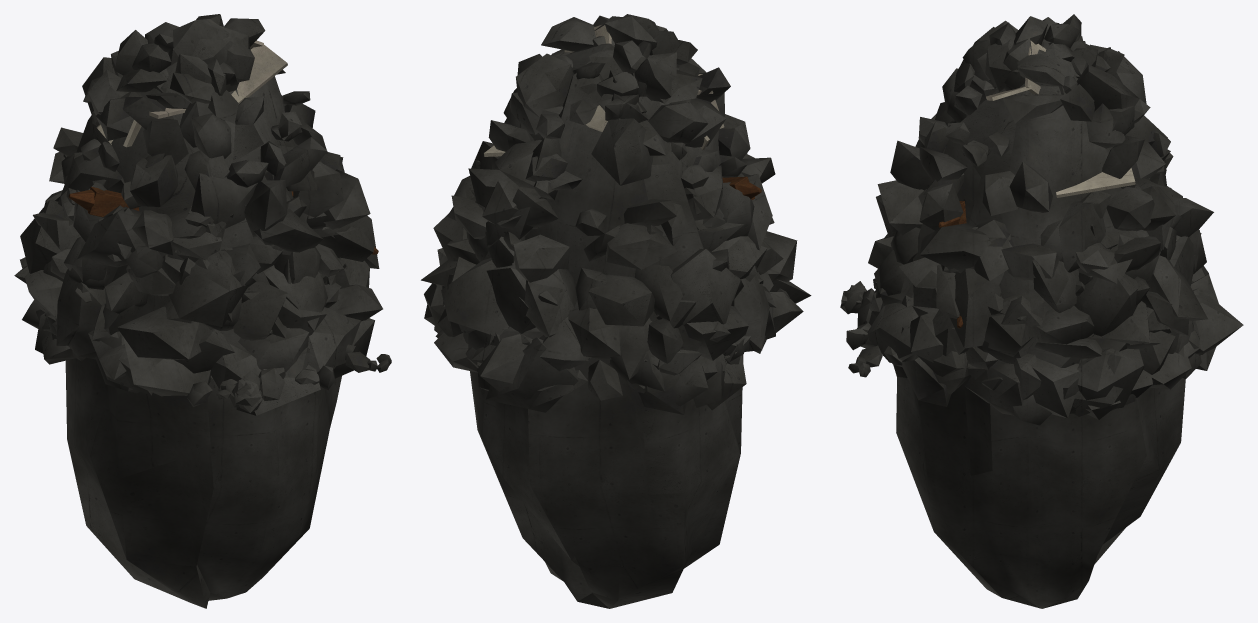
File: Rubble_Pile.gltf
3 renders of one model, left to right at view 1: azimuth 30°, elevation 25°; view 2: azimuth 150°, elevation 25°; view 3: azimuth 270°, elevation 25°, orthographic.
Visible parts, largest first — view 1: Rubble_Pile_Stone, Rubble_Pile_Beams; view 2: Rubble_Pile_Stone; view 3: Rubble_Pile_Stone.
Boxes of the visible parts, <box> form: Rubble_Pile_Stone: <box>14,14,391,608</box>; Rubble_Pile_Beams: <box>68,186,378,254</box>; Rubble_Pile_Stone: <box>421,14,811,608</box>; Rubble_Pile_Stone: <box>840,14,1243,608</box>.
Size of what is drawn, in the model's own units: 3.34 by 5.94 by 3.71.
3 materials, 3 textured.
